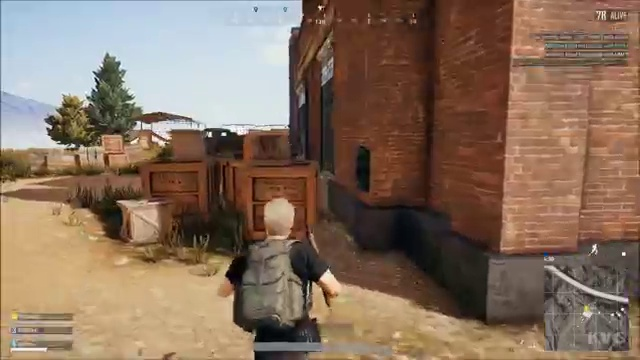Player: (202, 196, 351, 316)
